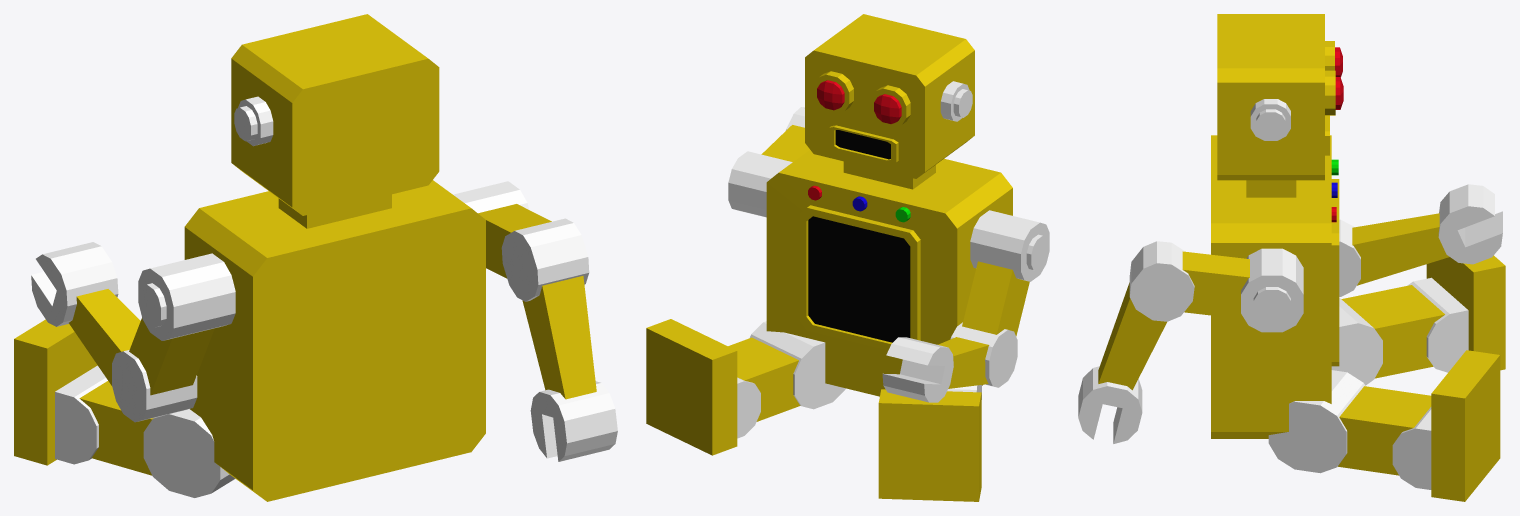
Rendered from FlippedOff_Robot.fbx.
The picture shows the model from 3 angles, left to right: view 1: azimuth 30°, elevation 25°; view 2: azimuth 150°, elevation 25°; view 3: azimuth 270°, elevation 25°; orthographic projection. The views are drawn at different scales.
Parts seen in each view (by area): view 1: Robot; view 2: Robot; view 3: Robot.
Boxes of the visible parts, left/top/right/bottom form: Robot: left=14, top=14, right=617, bottom=501; Robot: left=646, top=14, right=1049, bottom=501; Robot: left=1078, top=14, right=1505, bottom=501.
Size of the model in its own units: 683 by 694 by 708.
